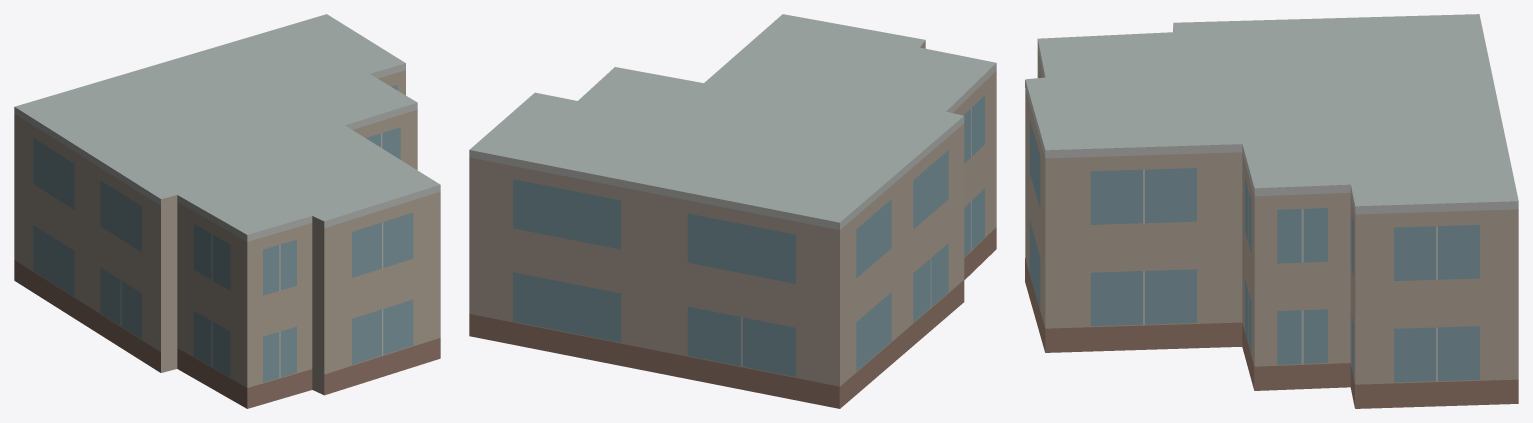
The model's file is survey-upis-32590710.glb.
3 views of the same model, side by side, from view 1: azimuth 30°, elevation 25°; view 2: azimuth 150°, elevation 25°; view 3: azimuth 270°, elevation 25° (orthographic). The views are drawn at different scales.
Visible parts, largest first — view 1: survey-upis-32590710.tmp; view 2: survey-upis-32590710.tmp; view 3: survey-upis-32590710.tmp.
Boxes of the visible parts, bbox=[...] form: survey-upis-32590710.tmp: bbox=[14, 14, 440, 408]; survey-upis-32590710.tmp: bbox=[469, 14, 996, 408]; survey-upis-32590710.tmp: bbox=[1025, 14, 1518, 408].
Size of the model in its own units: 12.43 by 6.1 by 13.48.
